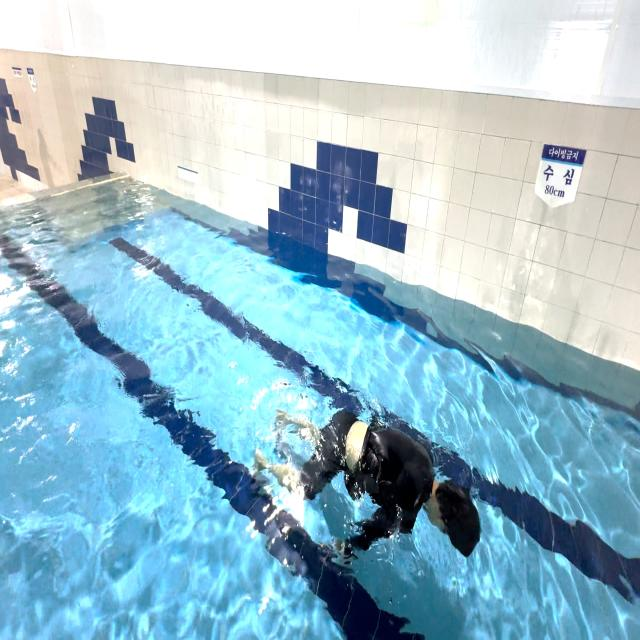Drowning: (247, 384, 492, 580)
